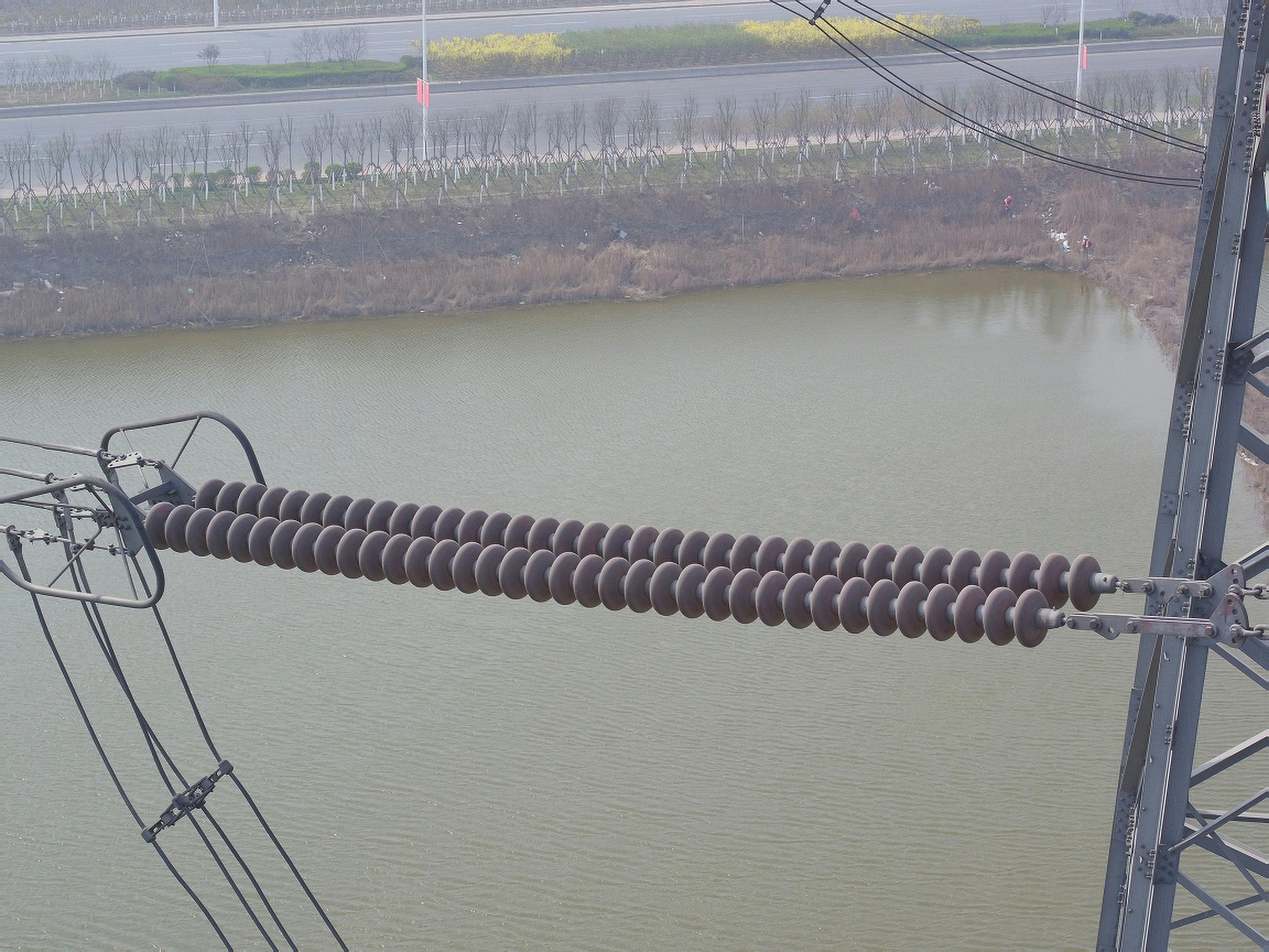insulator: (140, 475, 1108, 652)
